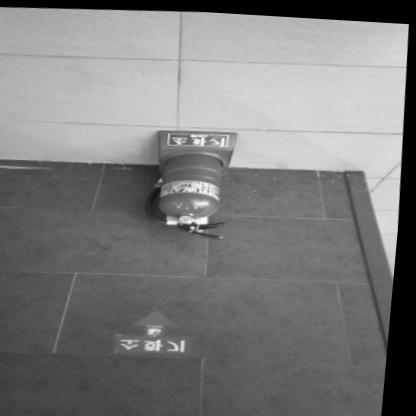FE: (145, 126, 243, 241)
